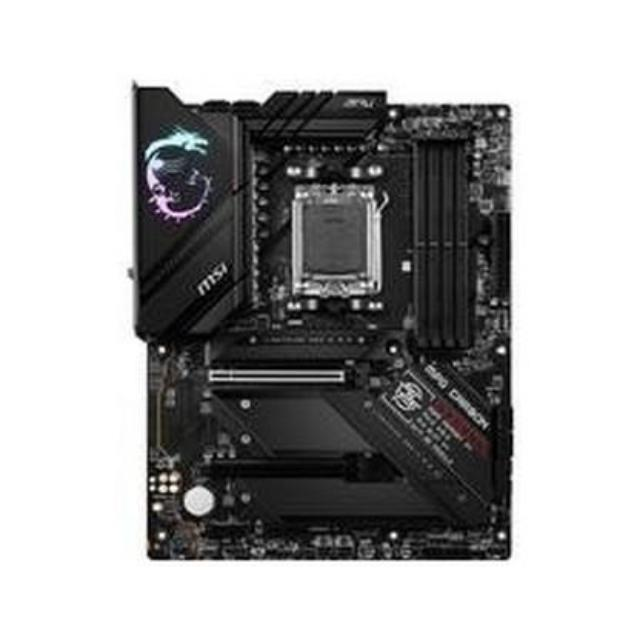Mainboard: (125, 68, 523, 574)
